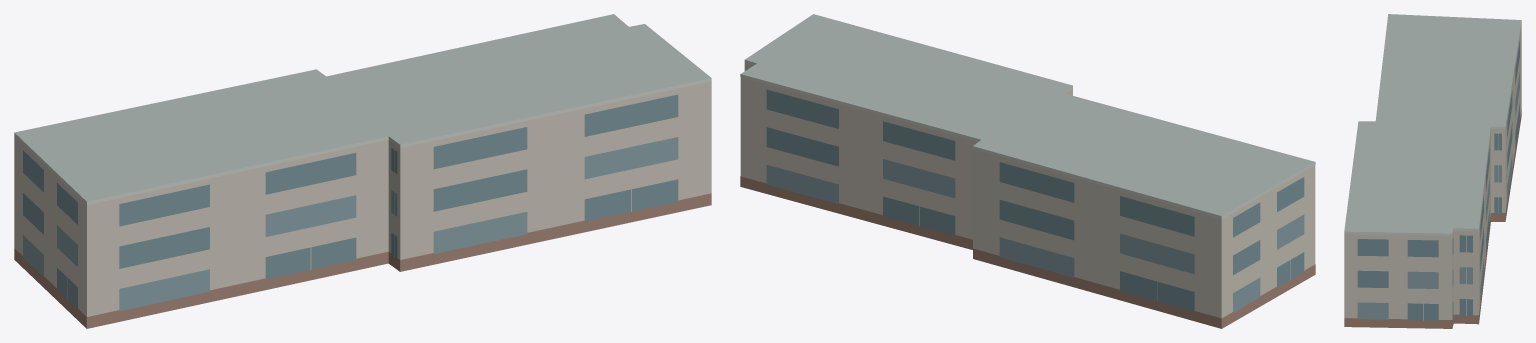
The model's file is survey-upis-32886314.glb.
3 renders of one model, left to right at view 1: azimuth 30°, elevation 25°; view 2: azimuth 150°, elevation 25°; view 3: azimuth 270°, elevation 25°, orthographic. The views are drawn at different scales.
Visible parts, largest first — view 1: survey-upis-32886314.tmp; view 2: survey-upis-32886314.tmp; view 3: survey-upis-32886314.tmp.
Part boxes in pixels (left/top/right/bottom): survey-upis-32886314.tmp: left=14, top=14, right=711, bottom=328; survey-upis-32886314.tmp: left=740, top=14, right=1315, bottom=328; survey-upis-32886314.tmp: left=1344, top=14, right=1521, bottom=328.
Bounding box in the file's own units: 45.24 × 9.15 × 15.46.
